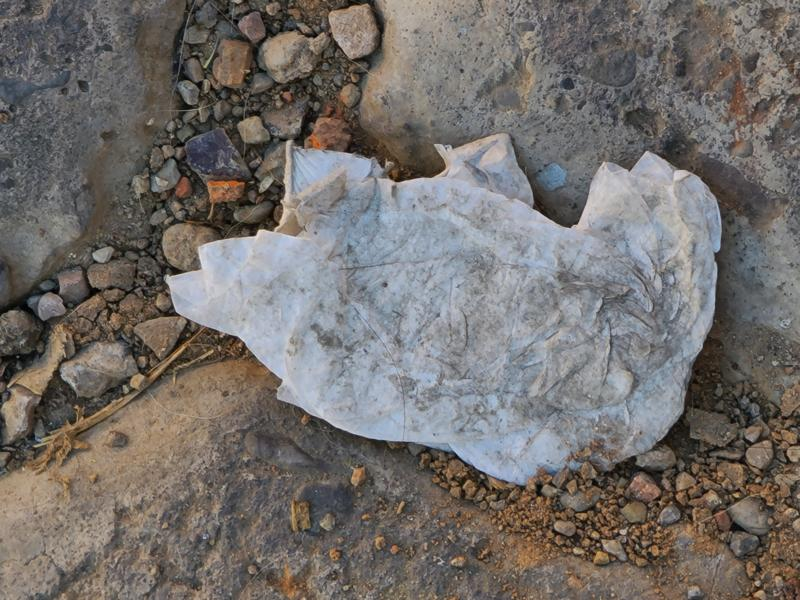papel: (165, 134, 723, 486)
